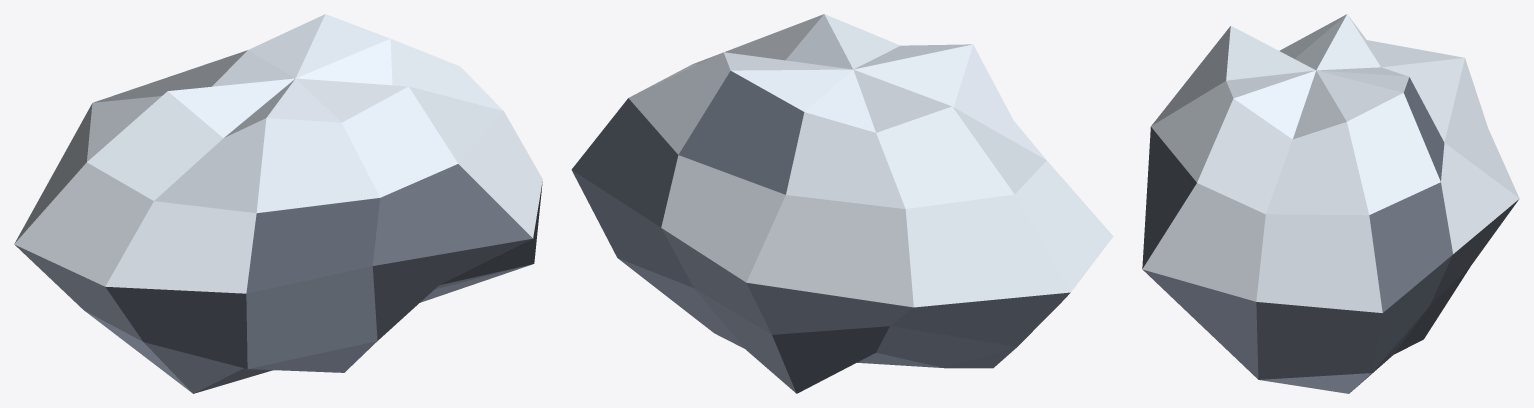
Rendered from Rock3.fbx.
3 views of the same model, side by side, from view 1: azimuth 30°, elevation 25°; view 2: azimuth 150°, elevation 25°; view 3: azimuth 270°, elevation 25° (orthographic). The views are drawn at different scales.
Visible parts, largest first — view 1: Rock; view 2: Rock; view 3: Rock.
Boxes of the visible parts, left/top/right/bottom form: Rock: left=14, top=14, right=542, bottom=393; Rock: left=571, top=14, right=1113, bottom=393; Rock: left=1142, top=14, right=1519, bottom=393.
Size of the model in its own units: 3.72 by 2.18 by 2.56.
